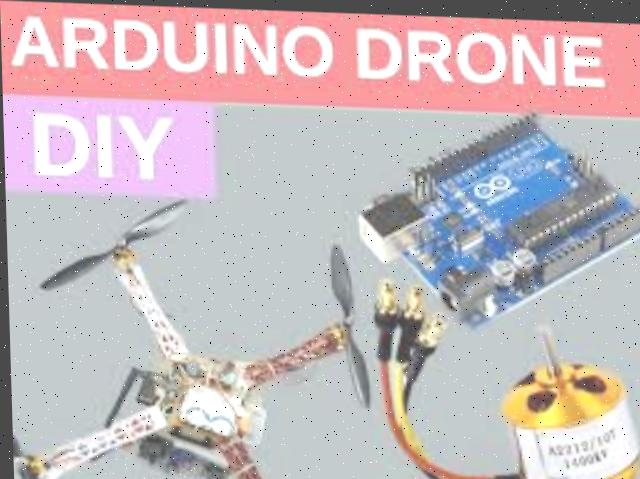drone: (6, 196, 377, 479)
